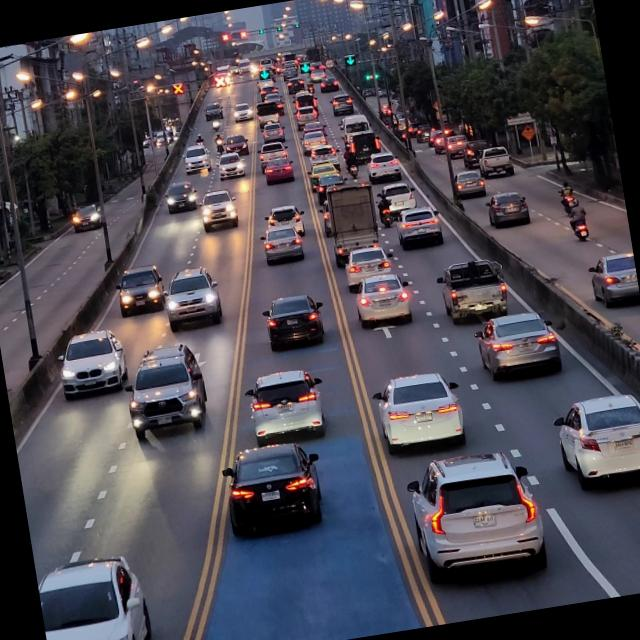Vehicle: (398, 446, 550, 584), (34, 546, 158, 640), (218, 438, 328, 542), (121, 342, 213, 446), (549, 391, 640, 492), (236, 362, 332, 450), (374, 371, 468, 456), (470, 308, 564, 388), (50, 326, 132, 404), (431, 253, 512, 325), (319, 179, 383, 269), (153, 263, 224, 333), (346, 270, 418, 334), (334, 242, 400, 298), (586, 248, 640, 311), (111, 259, 166, 319), (393, 202, 450, 255), (481, 186, 536, 233), (194, 187, 239, 236), (374, 178, 422, 218), (160, 176, 198, 220), (446, 167, 492, 202), (209, 148, 249, 182)
